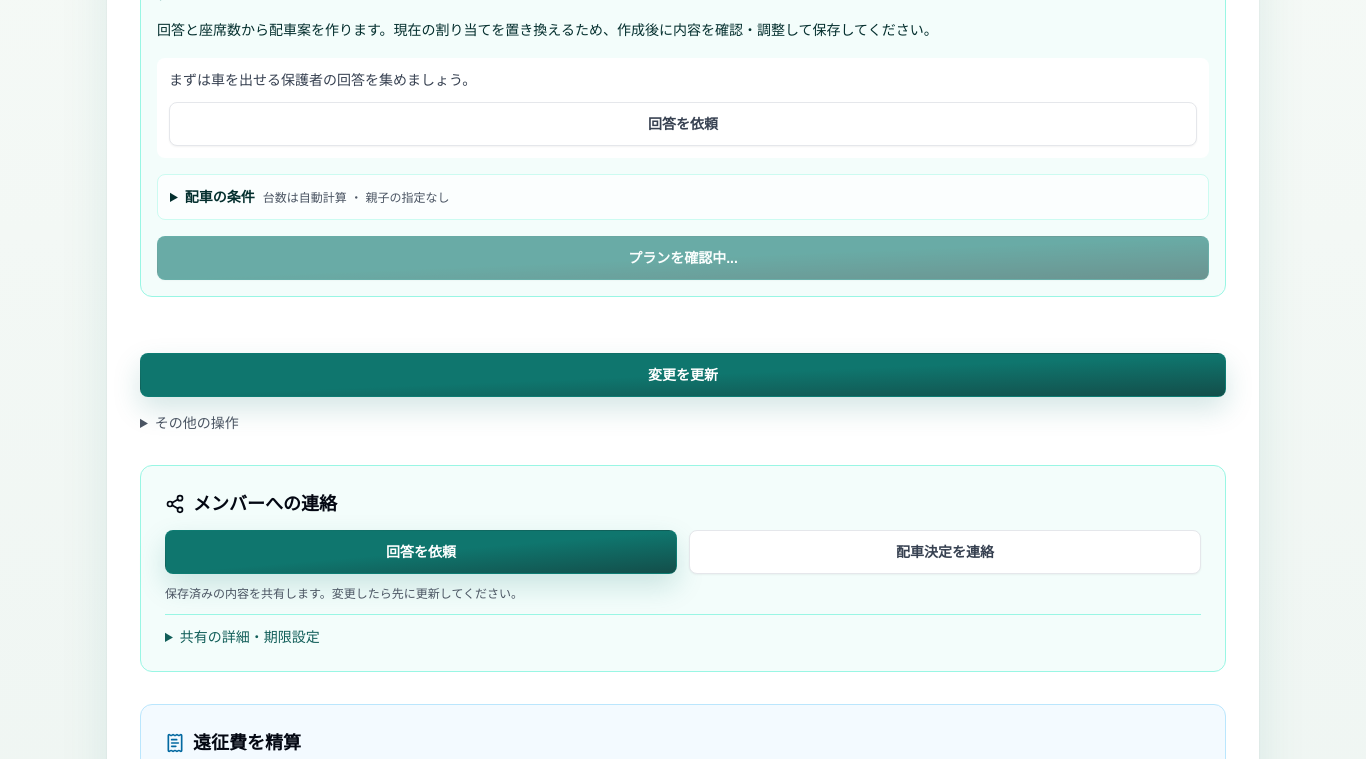
保存後の再取得失敗を保存失敗と扱わず、古い内容の決定連絡を止める
(page scrolled)
What coordinates should you click on to do the following:
click the button "変更を更新"
I would click on:
 (683, 375)
Its box is [140,353,1226,397].
(page scrolled)
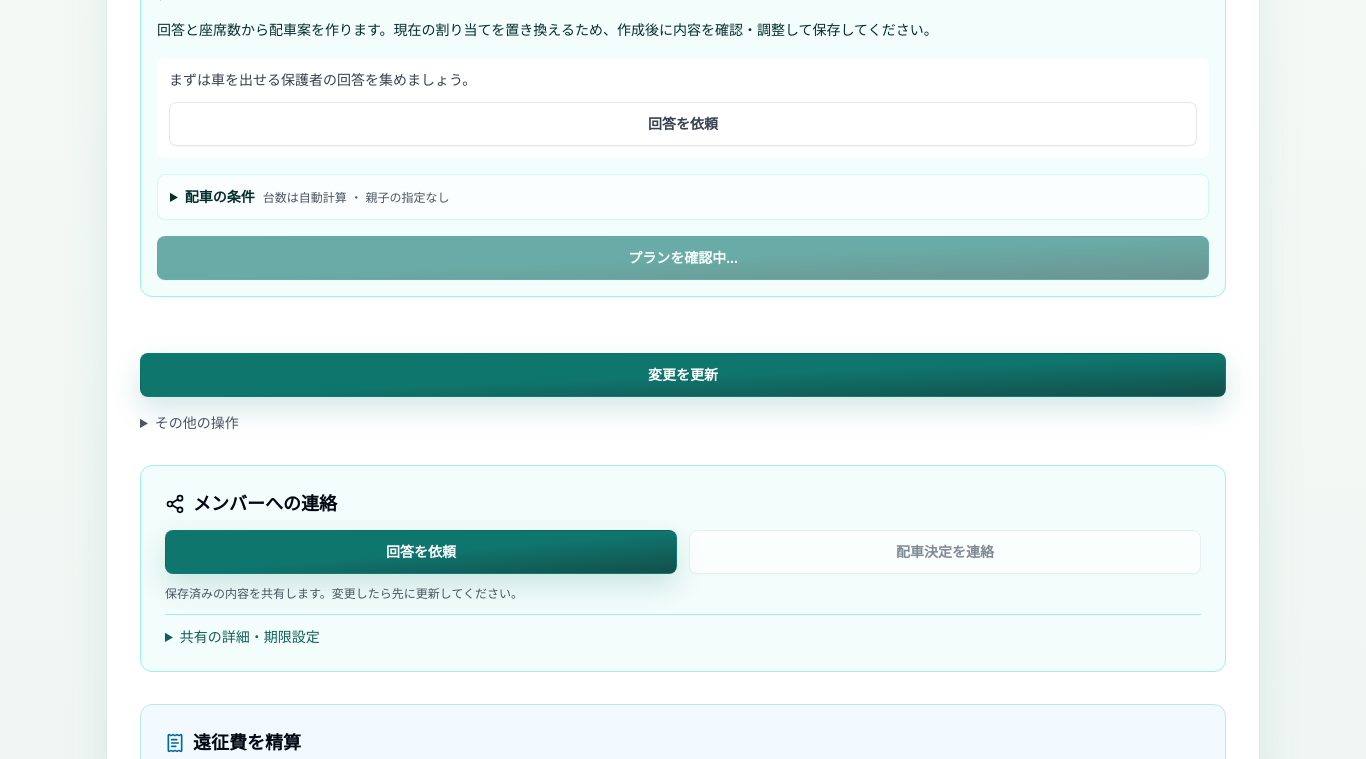
Check: the button "配車決定を連絡" is disabled, box [689,530,1201,574]
